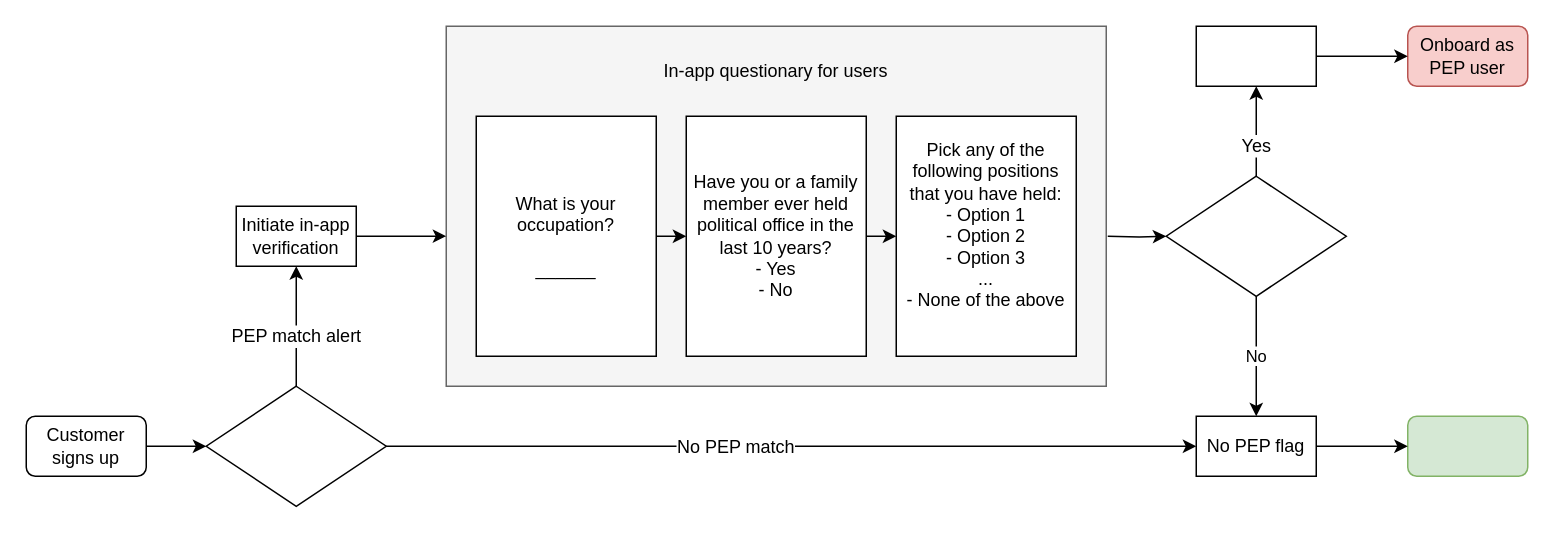
The diagram is 1554 pixels wide and 533 high, and some of its shapes have lost their labels. The shapes that lost their labels are listed below. From the top down, each one's centre as x and y in pixels, then its label:
At pixel 1255 55: "PEP flag".
At pixel 1255 235: "Answers confirm the match?".
At pixel 295 445: "Screening provider review".
At pixel 1467 445: "Onboard as standard user".
